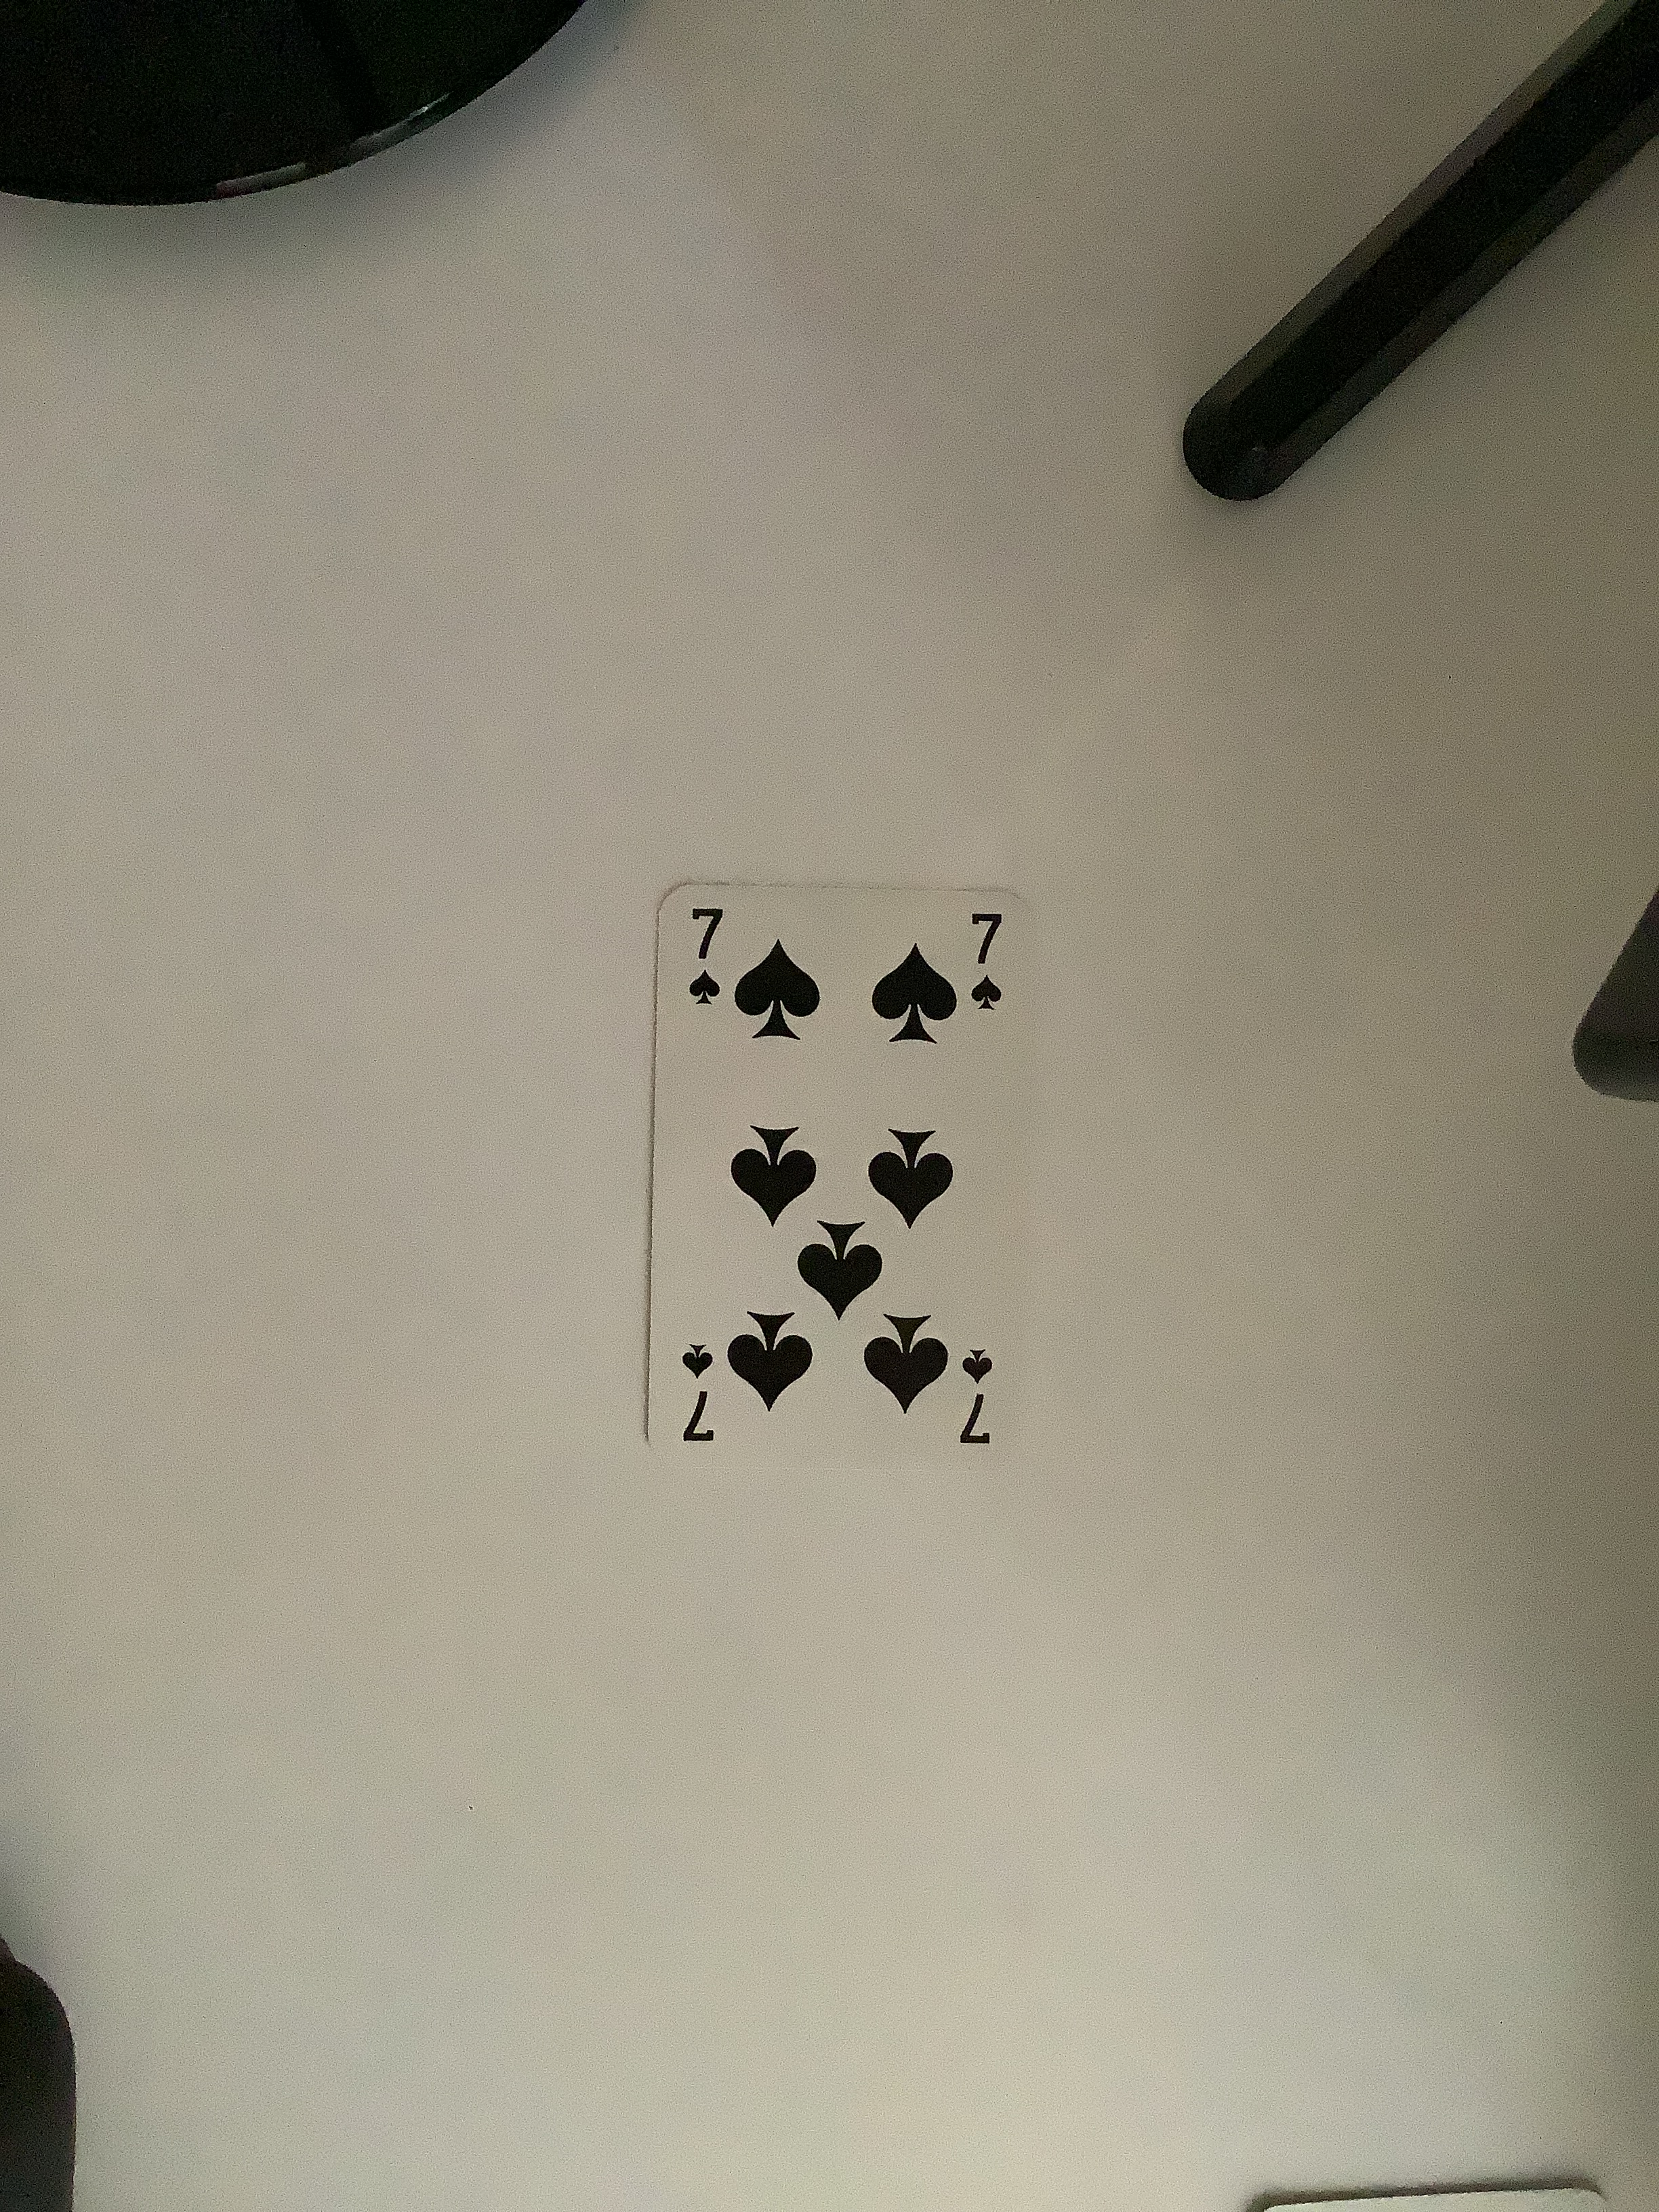♠ 7: (633, 859, 1066, 1494)
